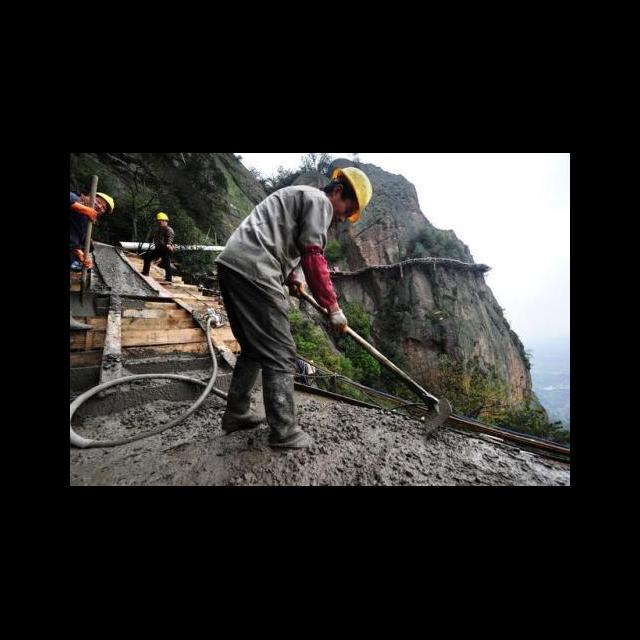Gloves: (73, 202, 97, 221), (330, 311, 348, 336), (288, 275, 304, 297), (76, 249, 93, 268), (166, 245, 173, 253)
Hardhat: (333, 167, 373, 222), (96, 191, 115, 211), (155, 213, 168, 220)
NO-Mask: (332, 209, 342, 224)
NO-Safety Vest: (224, 185, 320, 285), (70, 195, 85, 253), (152, 228, 169, 249)
Person: (212, 170, 364, 449), (70, 188, 114, 267), (143, 212, 175, 281)
